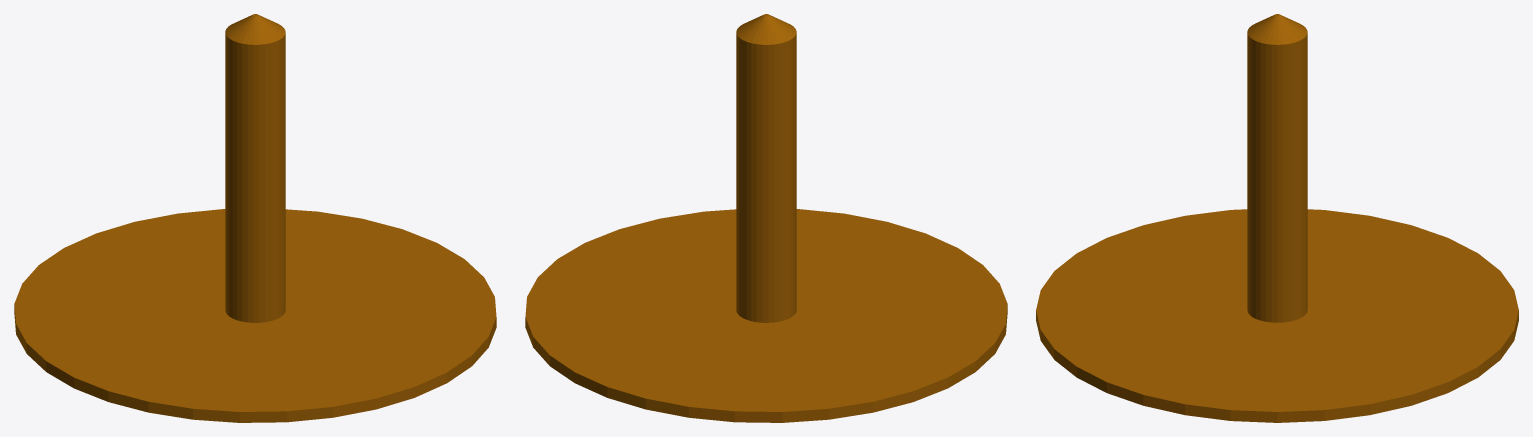
The model's file is modelo soporte.dae.
3 renders of one model, left to right at view 1: azimuth 30°, elevation 25°; view 2: azimuth 150°, elevation 25°; view 3: azimuth 270°, elevation 25°, orthographic.
Visible parts, largest first — view 1: Circle; view 2: Circle; view 3: Circle.
Part boxes in pixels (<box>): Circle: <box>14,14,496,422</box>; Circle: <box>525,14,1007,422</box>; Circle: <box>1036,14,1518,422</box>.
Bounding box in the file's own units: 0.4 × 0.4 × 0.2794.
